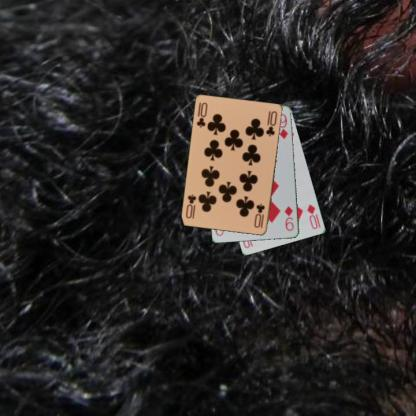10c: (194, 100, 209, 129), (252, 201, 266, 229)
10d: (304, 202, 322, 231)
9d: (282, 204, 295, 233)
